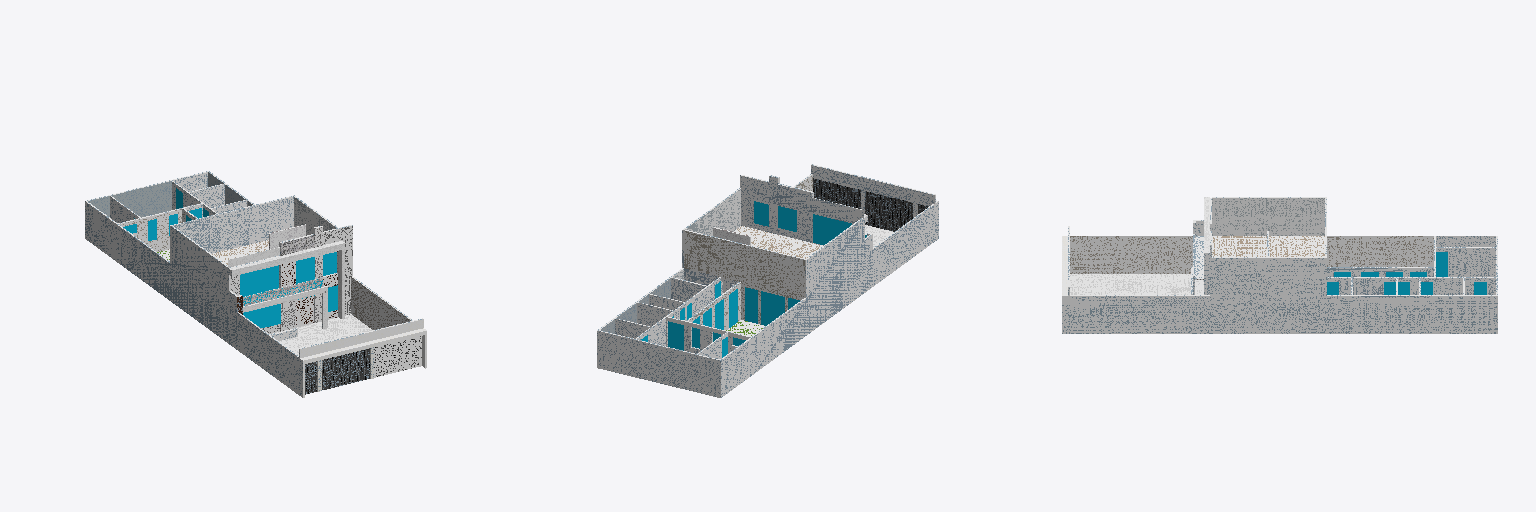
3 views of the same model, side by side, from view 1: azimuth 30°, elevation 25°; view 2: azimuth 150°, elevation 25°; view 3: azimuth 270°, elevation 25° (orthographic).
Visible parts, largest first — view 1: Mesh1 Model; view 2: Mesh1 Model; view 3: Mesh1 Model.
Part boxes in pixels (left/top/right/bottom): Mesh1 Model: left=85, top=171, right=426, bottom=397; Mesh1 Model: left=597, top=164, right=938, bottom=397; Mesh1 Model: left=1062, top=197, right=1497, bottom=333.
Bounding box in the file's own units: 10.01 × 7.31 × 30.51.
20 materials, 3 textured.